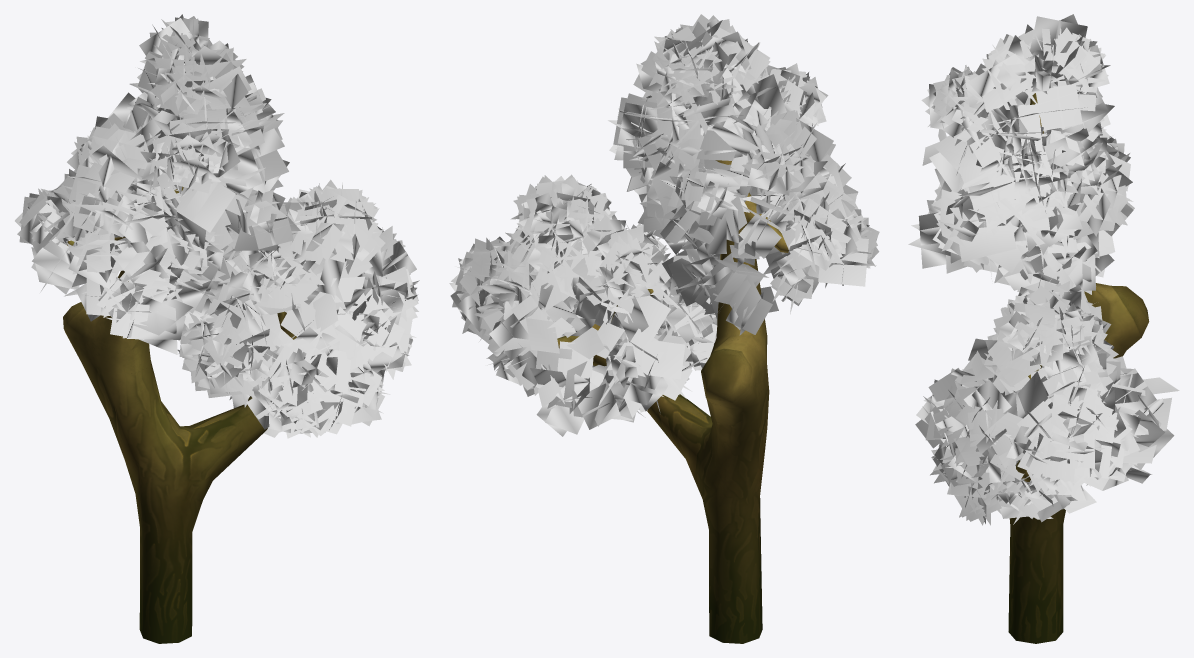
Rendered from 3_Arbol_LOD0.fbx.
3 renders of one model, left to right at view 1: azimuth 30°, elevation 25°; view 2: azimuth 150°, elevation 25°; view 3: azimuth 270°, elevation 25°, orthographic. The views are drawn at different scales.
Visible parts, largest first — view 1: 3_Arbol_LOD0; view 2: 3_Arbol_LOD0; view 3: 3_Arbol_LOD0.
Part boxes in pixels (<box>): 3_Arbol_LOD0: <box>15,14,419,643</box>; 3_Arbol_LOD0: <box>449,14,879,643</box>; 3_Arbol_LOD0: <box>908,14,1179,643</box>.
Size of the model in its own units: 1101 by 1616 by 636.
